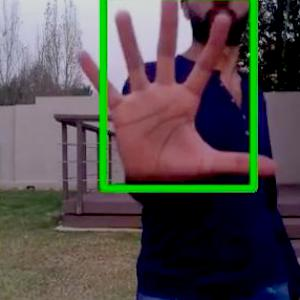follow_hand: (72, 0, 279, 190)
